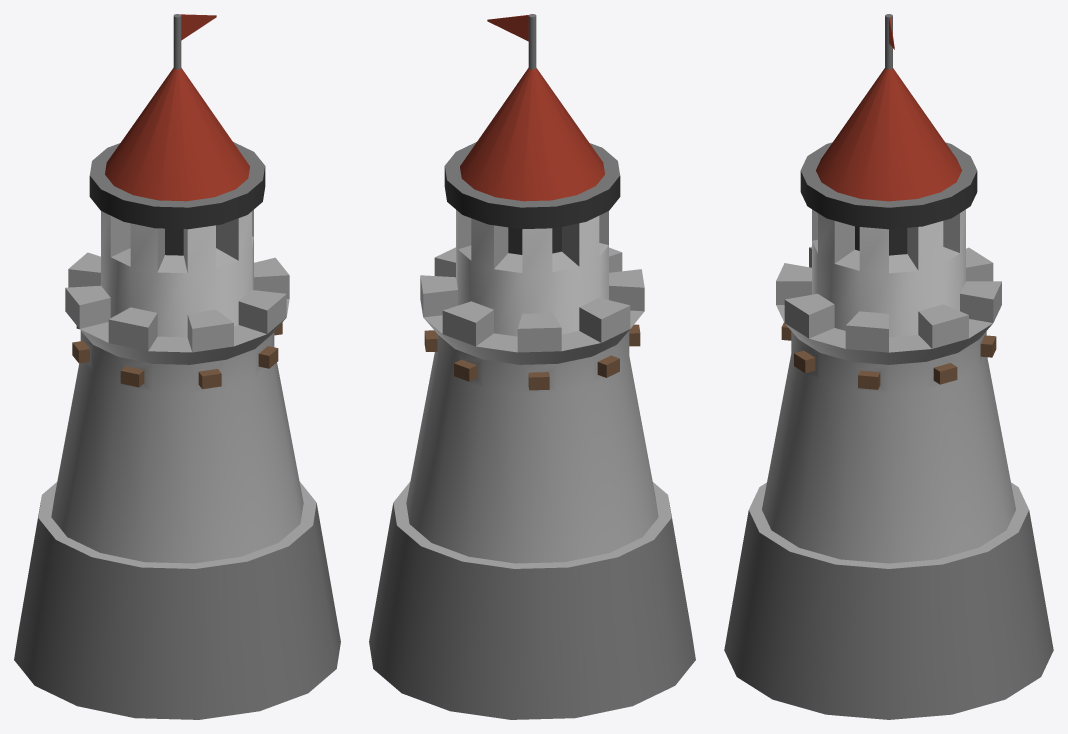
The model's file is fort_01.glb.
3 views of the same model, side by side, from view 1: azimuth 30°, elevation 25°; view 2: azimuth 150°, elevation 25°; view 3: azimuth 270°, elevation 25° (orthographic).
Parts seen in each view (by area): view 1: fort_01; view 2: fort_01; view 3: fort_01.
Boxes of the visible parts, x1,y1,x2,y2 form: fort_01: (14,14,340,719); fort_01: (369,14,695,719); fort_01: (724,14,1053,719).
Bounding box in the file's own units: 2.24 × 4.75 × 2.24.
